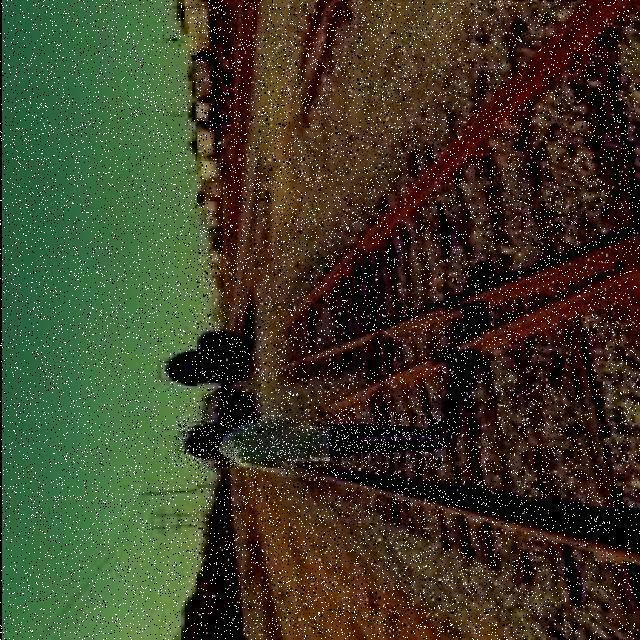danger: (173, 414, 444, 468)
rail: (196, 3, 637, 635)
